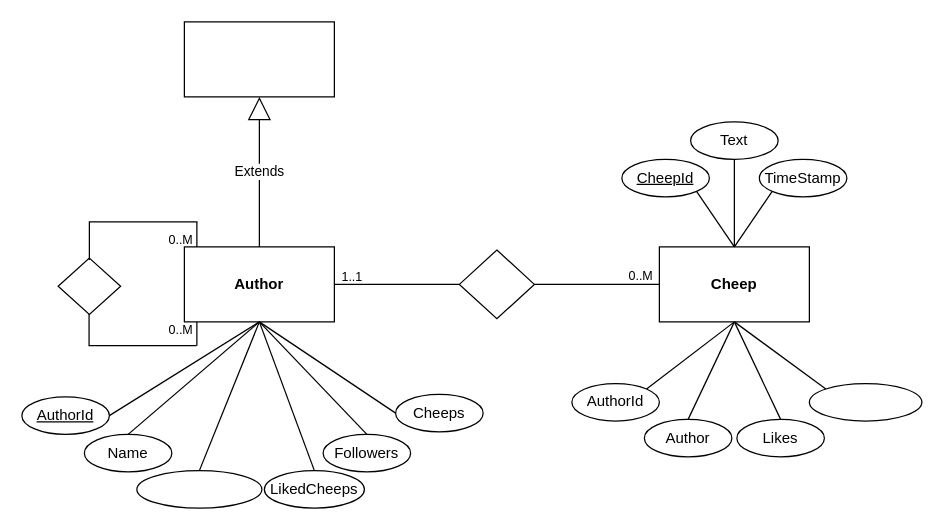
Image size: 944x530. Some labels were removed from this diagram. The centre of each missing label's shape, as x and y in pixels:
FollowedAuthors: the point at 199,488
Follows: the point at 89,285
IdentityUser: the point at 258,59
LikedByAuthors: the point at 865,401
Writes: the point at 496,284
